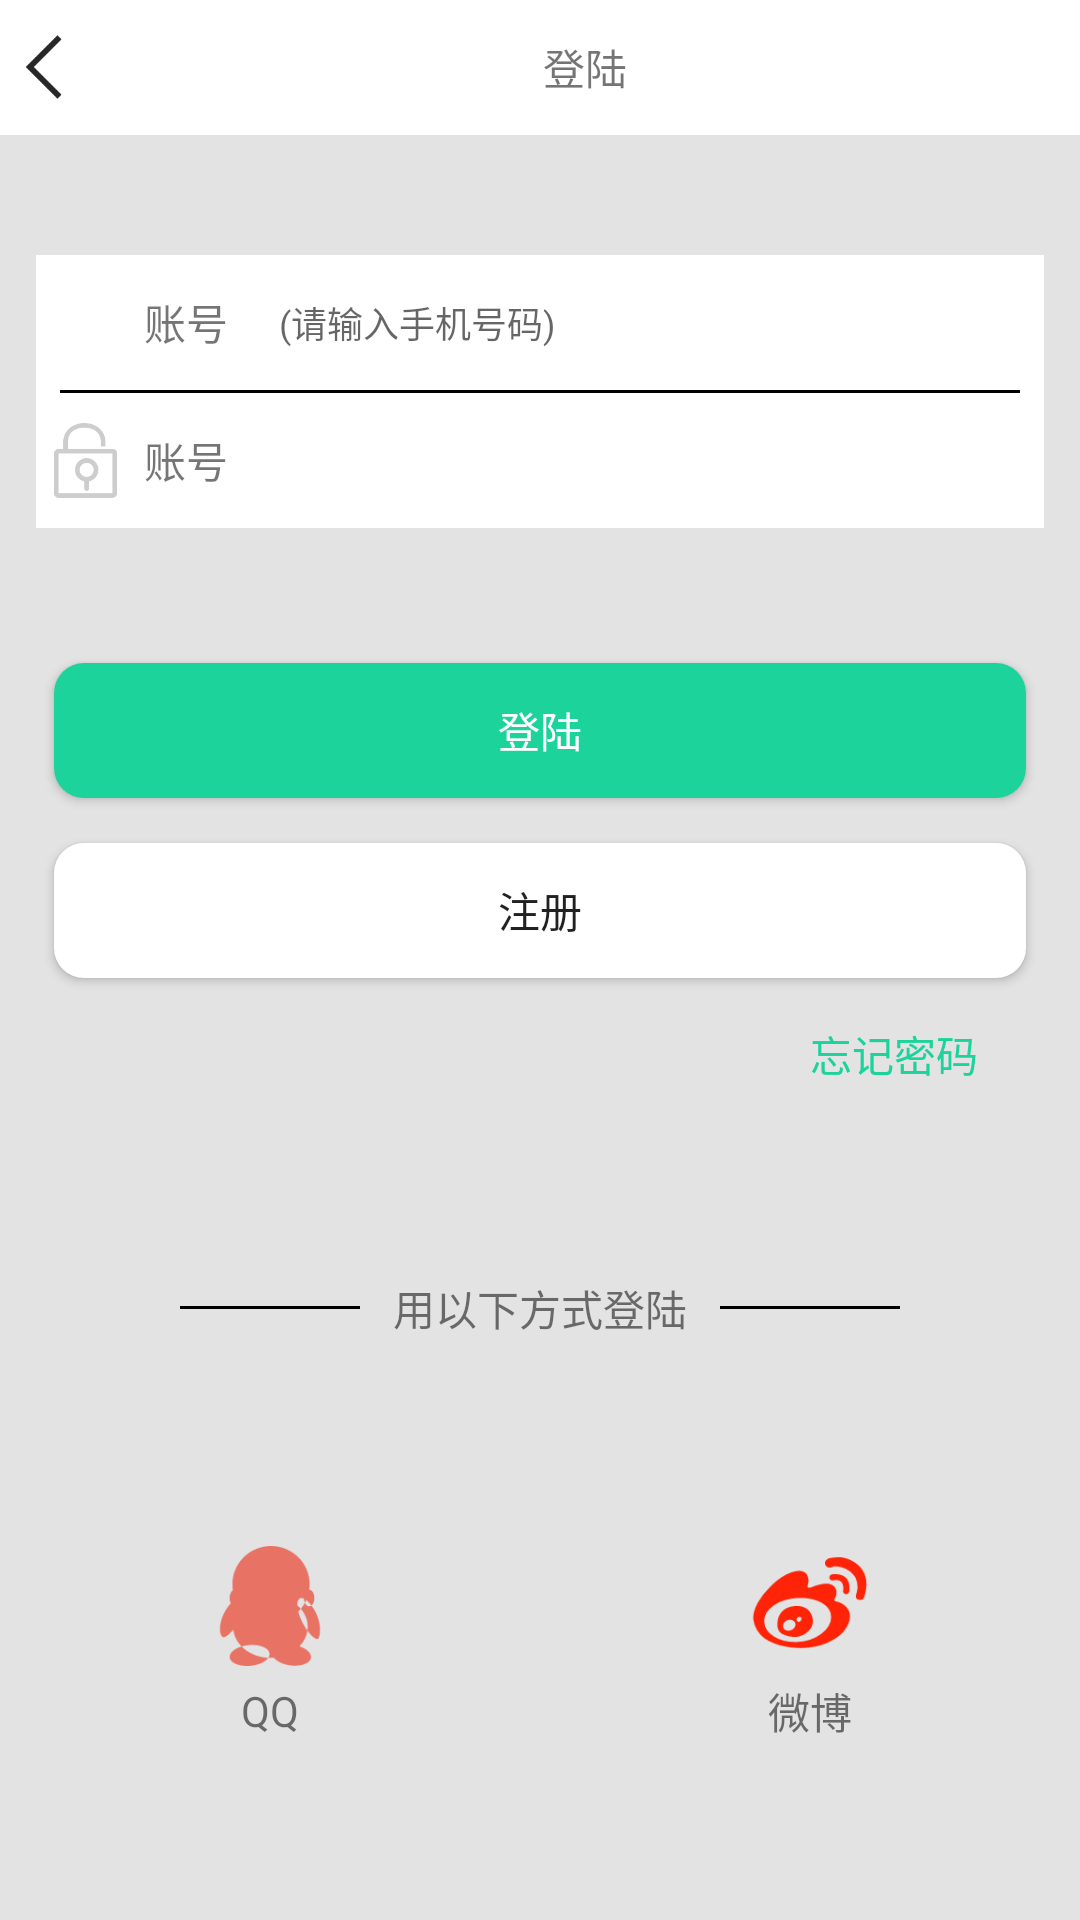

Named icons in this screenshot (1080 x 1920) and their centers, (x=x, y=y):
back selectro: (x=44, y=67)
password: (x=85, y=460)
